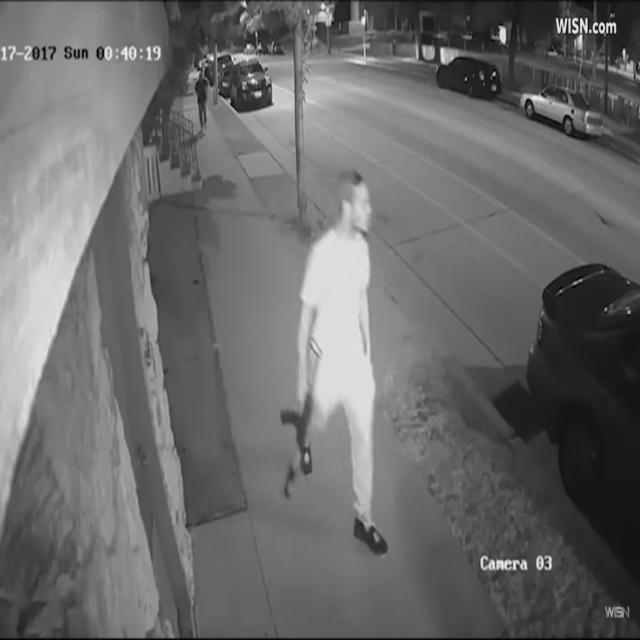FRifle: (278, 330, 324, 496)
